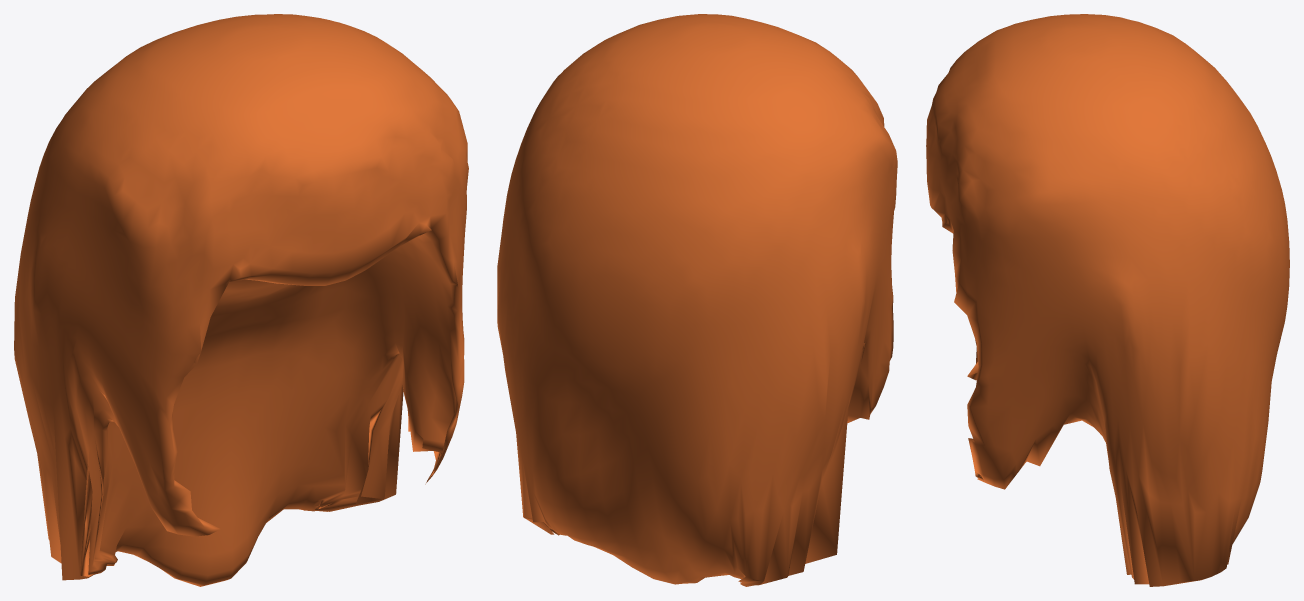
Rendered from Cheveux Rozenn2.fbx.
3 renders of one model, left to right at view 1: azimuth 30°, elevation 25°; view 2: azimuth 150°, elevation 25°; view 3: azimuth 270°, elevation 25°, orthographic. The views are drawn at different scales.
Visible parts, largest first — view 1: Cheveux Rozenn; view 2: Cheveux Rozenn; view 3: Cheveux Rozenn.
Part boxes in pixels (box(x1,y1,x2,y2)): Cheveux Rozenn: box(14, 14, 468, 586); Cheveux Rozenn: box(497, 14, 897, 586); Cheveux Rozenn: box(926, 14, 1289, 586).
Bounding box in the file's own units: 355 × 493 × 308.
